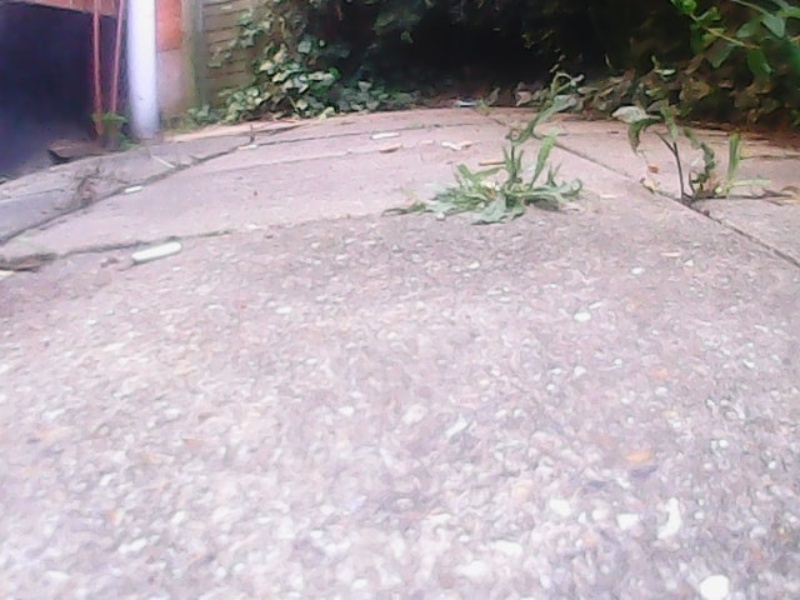cig: (127, 238, 191, 266), (440, 137, 477, 153), (367, 130, 406, 141), (478, 156, 507, 167), (121, 182, 143, 194)
